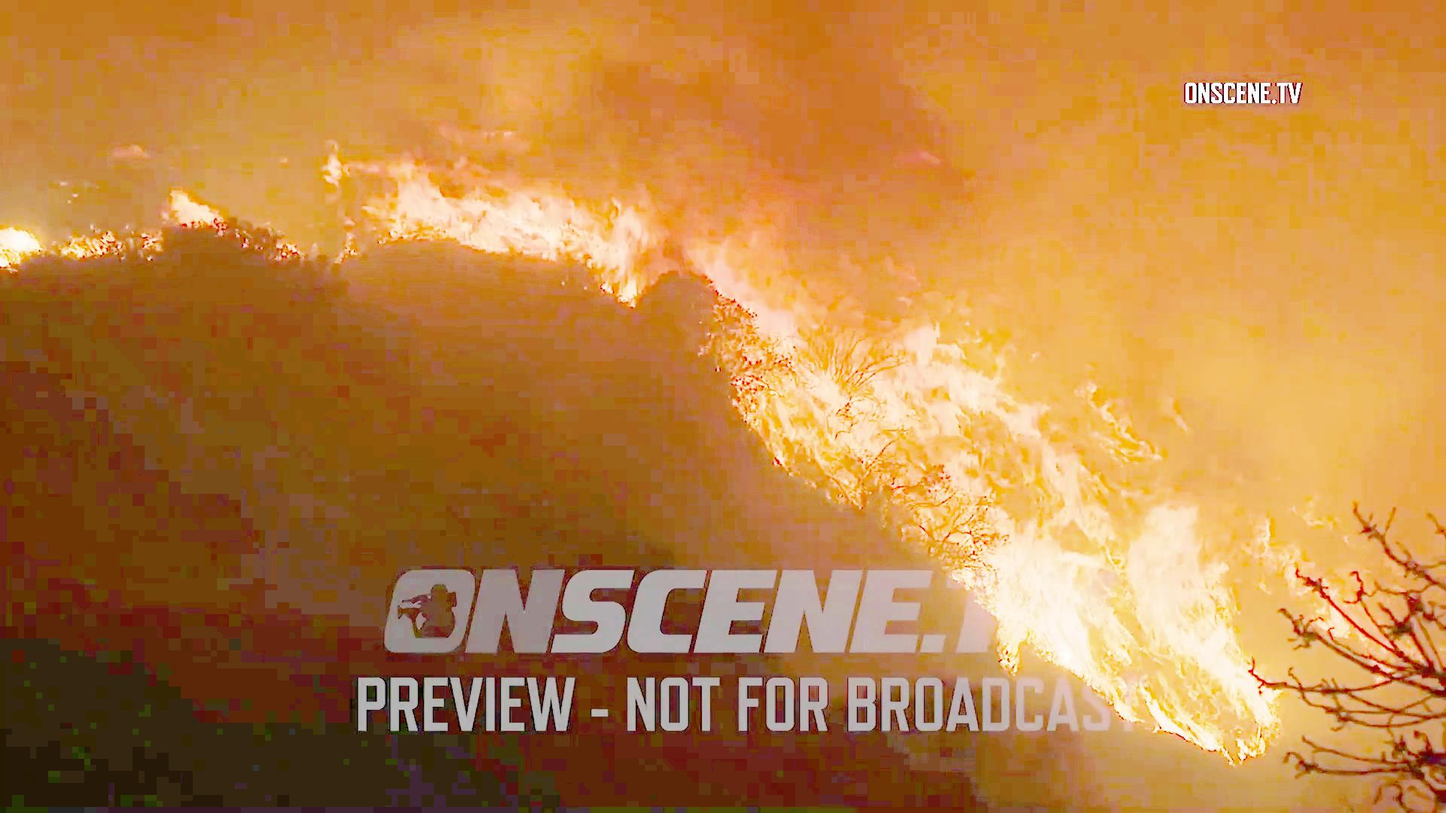fire: (1057, 371, 1272, 671), (352, 143, 799, 276), (745, 292, 1023, 446)
